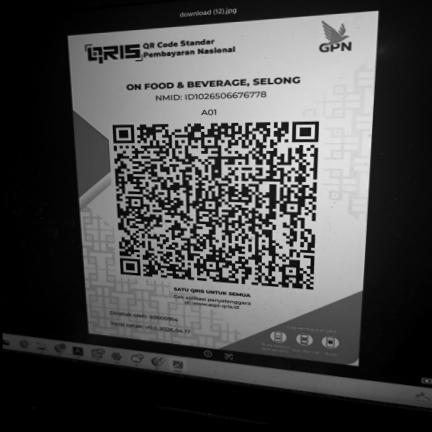Cara Pakai QRIS: (257, 321, 359, 365)
Cek Aplikasi Penyelenggara: (170, 293, 256, 315)
Dicetak Oleh: (106, 307, 183, 325)
Logo GPN: (311, 15, 358, 59)
Logo dan deskripsi QRIS: (76, 29, 247, 69)
Nama Merchant: (120, 71, 309, 94)
National Merchant ID: (123, 88, 309, 104)
QR Code: (106, 118, 328, 295)
Slogan: (169, 284, 257, 300)
Terminal ID: (197, 107, 223, 118)
Versi Cetak: (106, 318, 195, 339)
